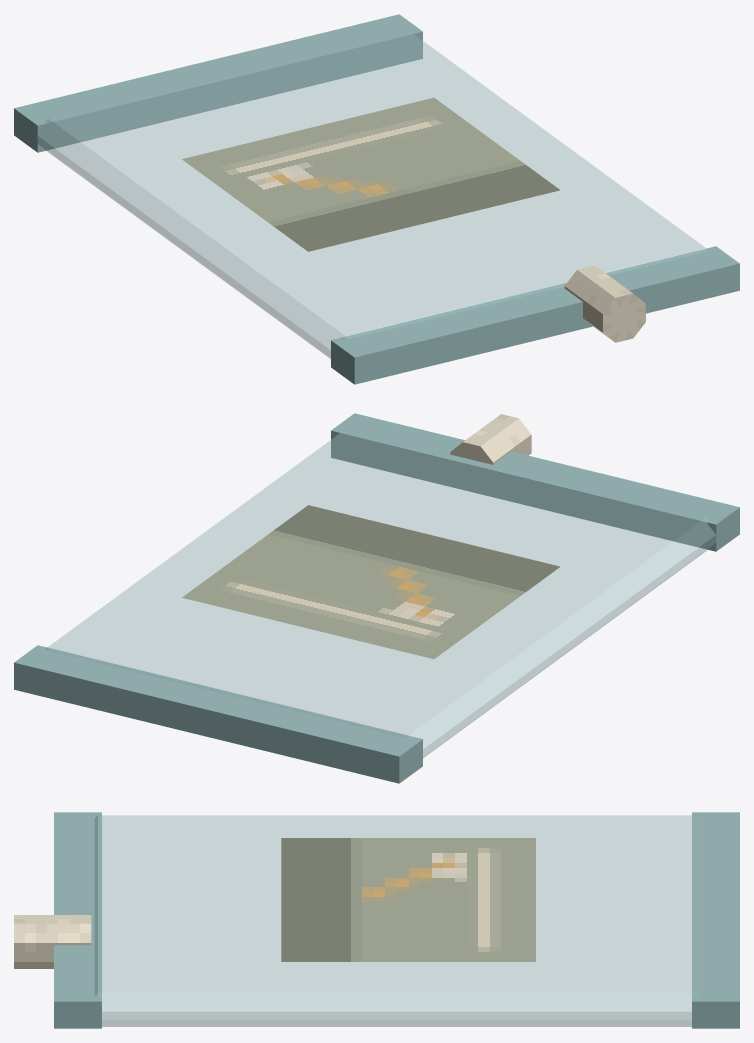
The model's file is bag_iv.glb.
3 renders of one model, top to bottom at view 1: azimuth 30°, elevation 25°; view 2: azimuth 150°, elevation 25°; view 3: azimuth 270°, elevation 25°, orthographic.
Visible parts, largest first — view 1: block_sealed pouch, block_sealed ends (×2), block_medical label, block_port; view 2: block_sealed pouch, block_sealed ends (×2), block_medical label, block_port; view 3: block_sealed pouch, block_medical label, block_sealed ends (×2), block_port.
Boxes of the visible parts, left/top/right/bottom form: block_sealed pouch: left=36, top=30, right=708, bottom=358; block_sealed ends (×2): left=14, top=14, right=739, bottom=384; block_medical label: left=182, top=97, right=560, bottom=251; block_port: left=564, top=265, right=645, bottom=342; block_sealed pouch: left=45, top=429, right=716, bottom=757; block_sealed ends (×2): left=14, top=413, right=739, bottom=783; block_medical label: left=182, top=505, right=560, bottom=658; block_port: left=450, top=414, right=531, bottom=464; block_sealed pouch: left=94, top=815, right=699, bottom=1026; block_medical label: left=281, top=838, right=535, bottom=961; block_sealed ends (×2): left=54, top=812, right=739, bottom=1028; block_port: left=14, top=915, right=91, bottom=968.
Size of the model in its own units: 0.0659 by 0.00765 by 0.1068.
Materials: 2 (2 with a texture image).
